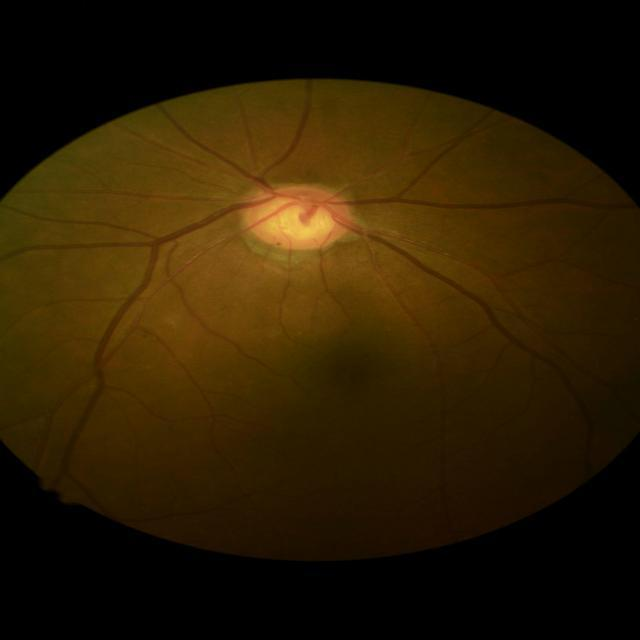cup: (261, 192, 339, 240)
disk: (243, 183, 349, 250)
